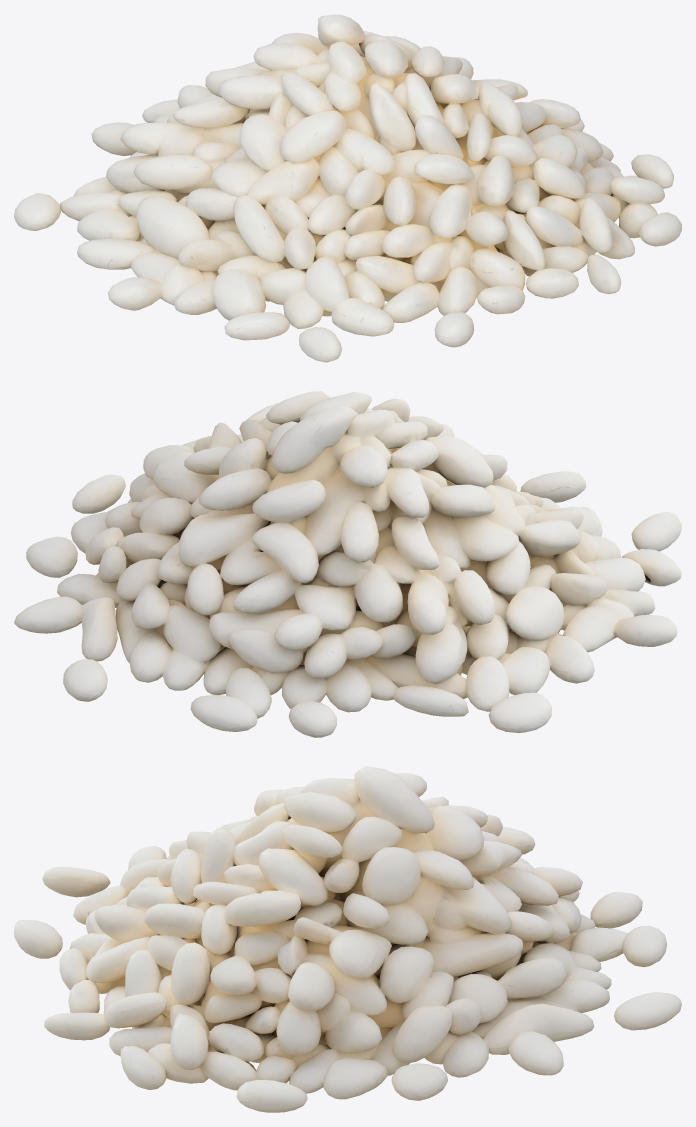
Rendered from lod_basic_shaded.fbx.
The picture shows the model from 3 angles, top to bottom: view 1: azimuth 30°, elevation 25°; view 2: azimuth 150°, elevation 25°; view 3: azimuth 270°, elevation 25°; orthographic projection. The views are drawn at different scales.
Visible parts, largest first — view 1: model_LOD0; view 2: model_LOD0; view 3: model_LOD0.
Part boxes in pixels (left/top/right/bottom): model_LOD0: left=14, top=14, right=681, bottom=362; model_LOD0: left=14, top=391, right=681, bottom=737; model_LOD0: left=14, top=766, right=681, bottom=1112.
Size of what is drawn, in the model's own units: 189 by 64.16 by 189.
